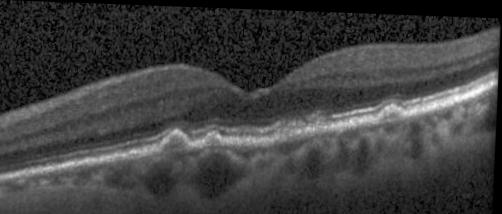retinal_drusen: (283, 117, 311, 139), (164, 132, 190, 150), (312, 108, 331, 131), (382, 105, 402, 119), (207, 133, 223, 145)
